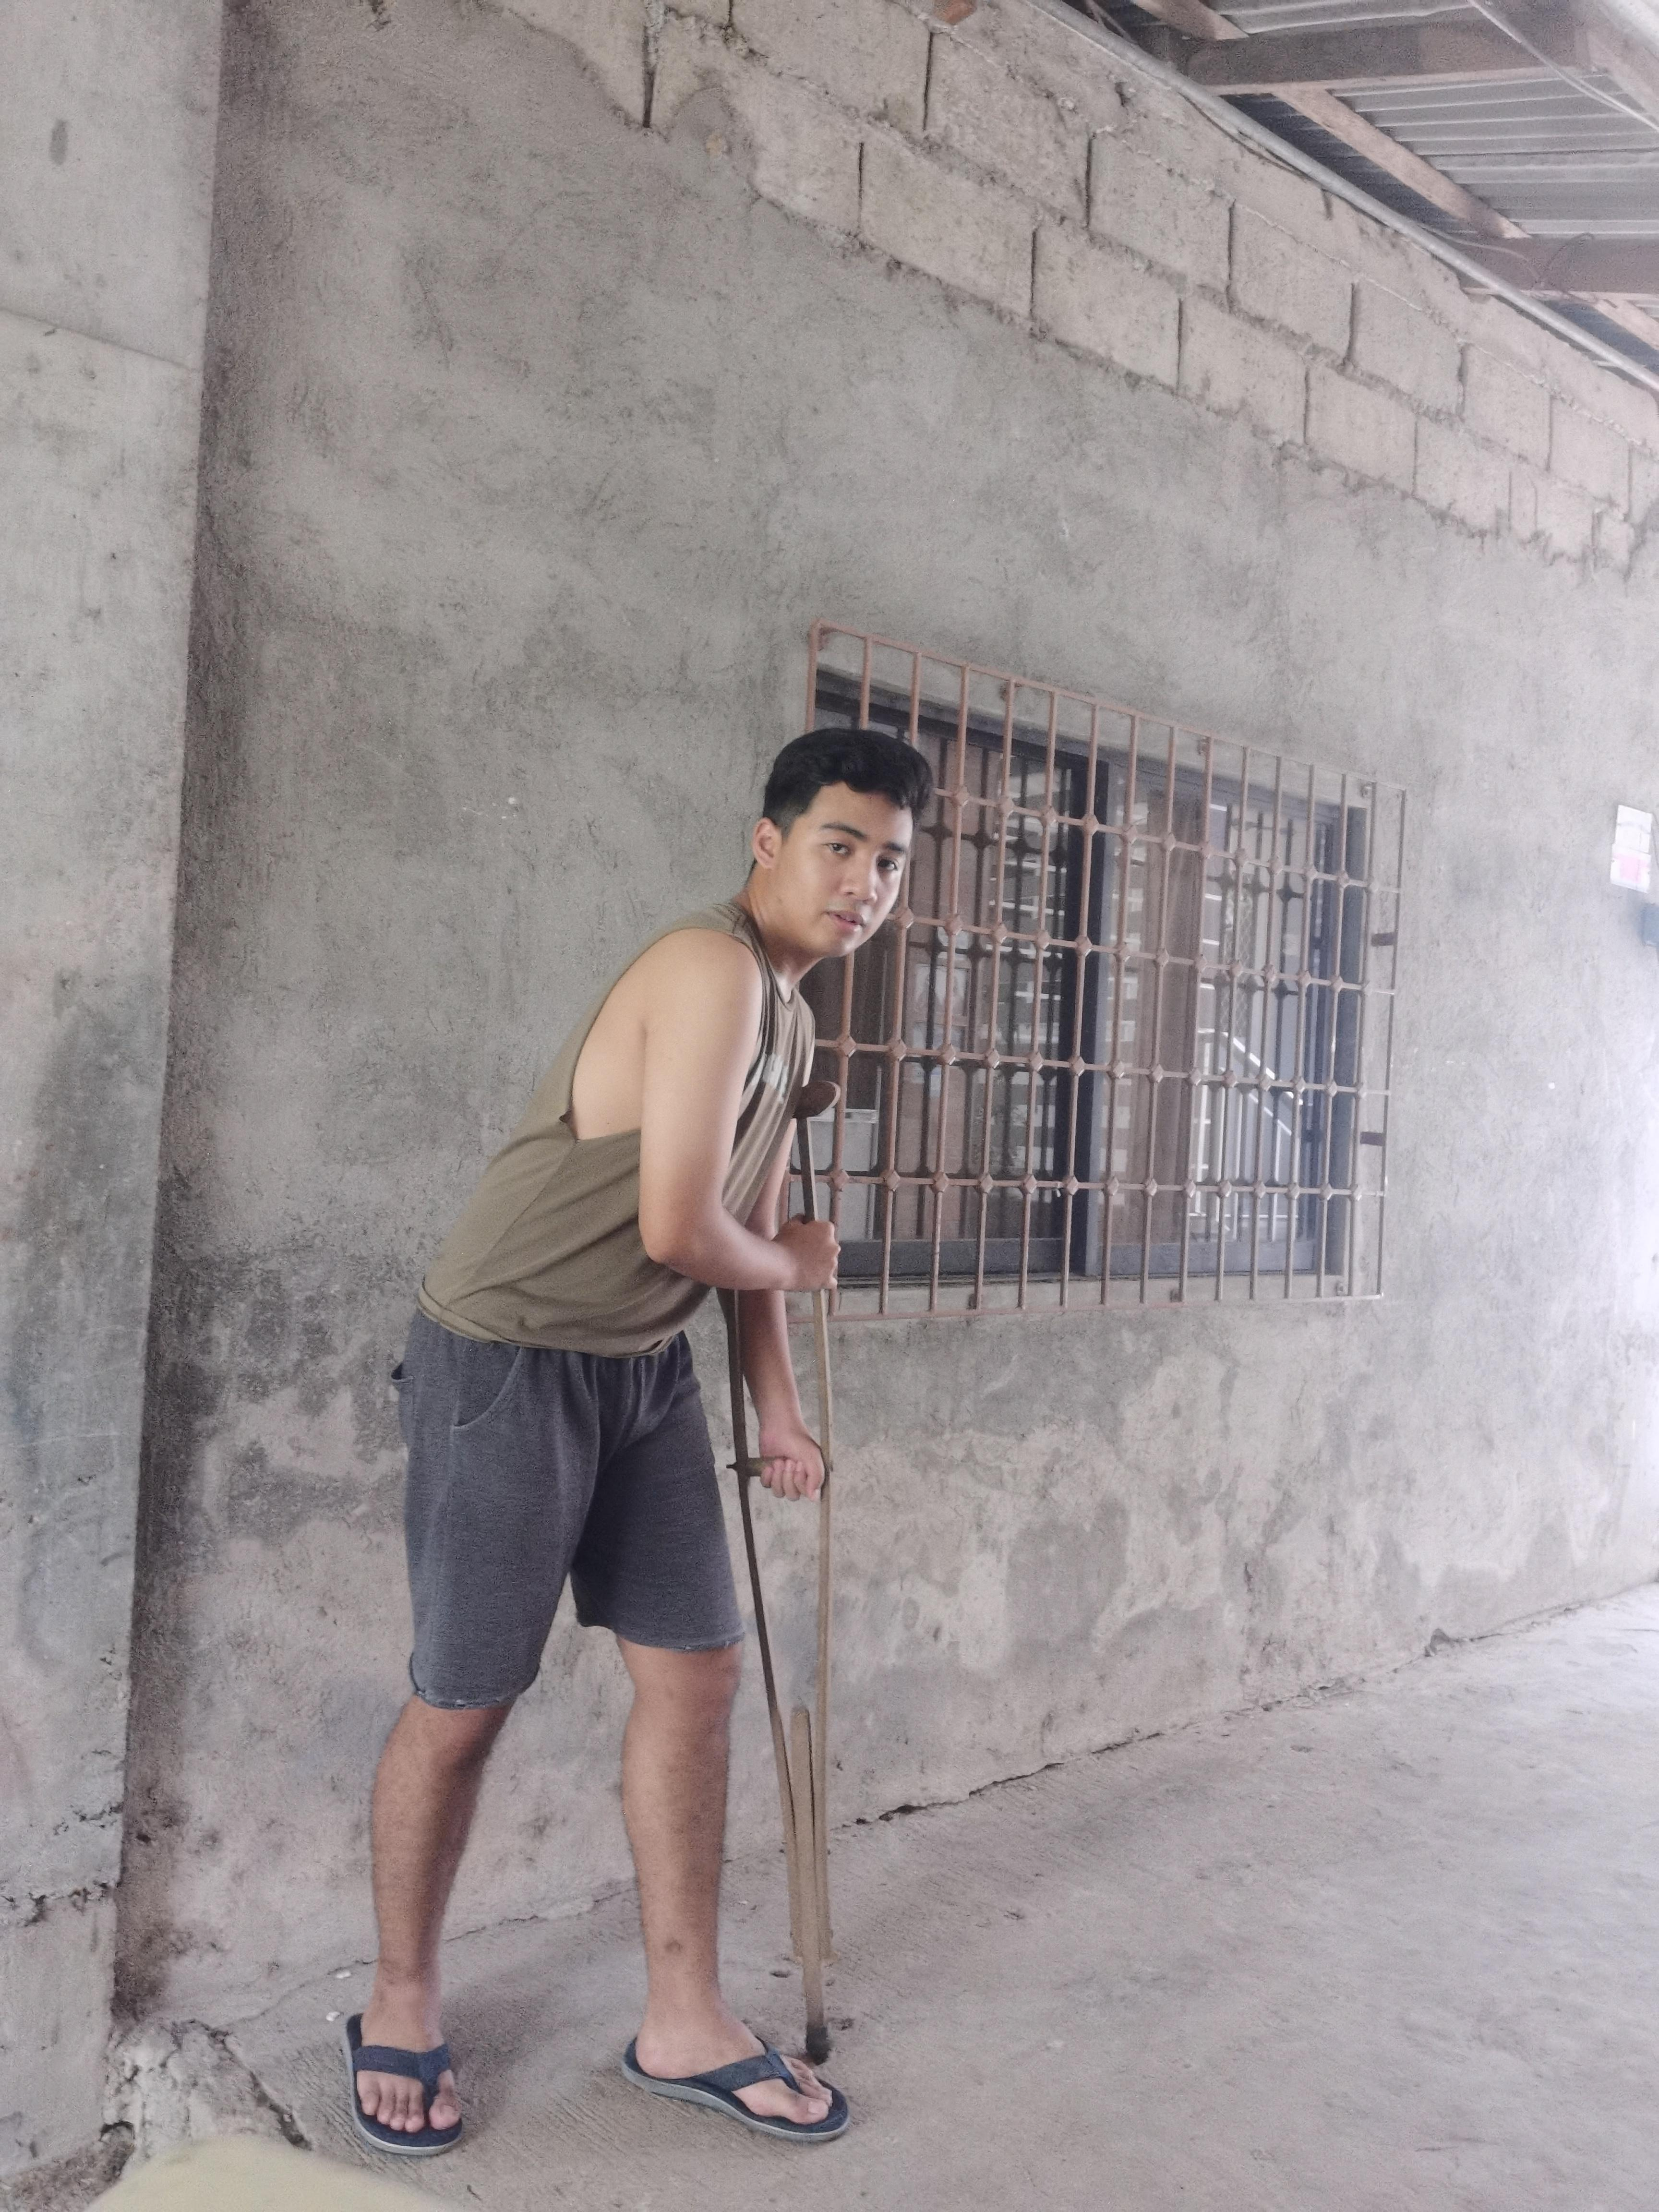crutches: (328, 707, 951, 2155)
